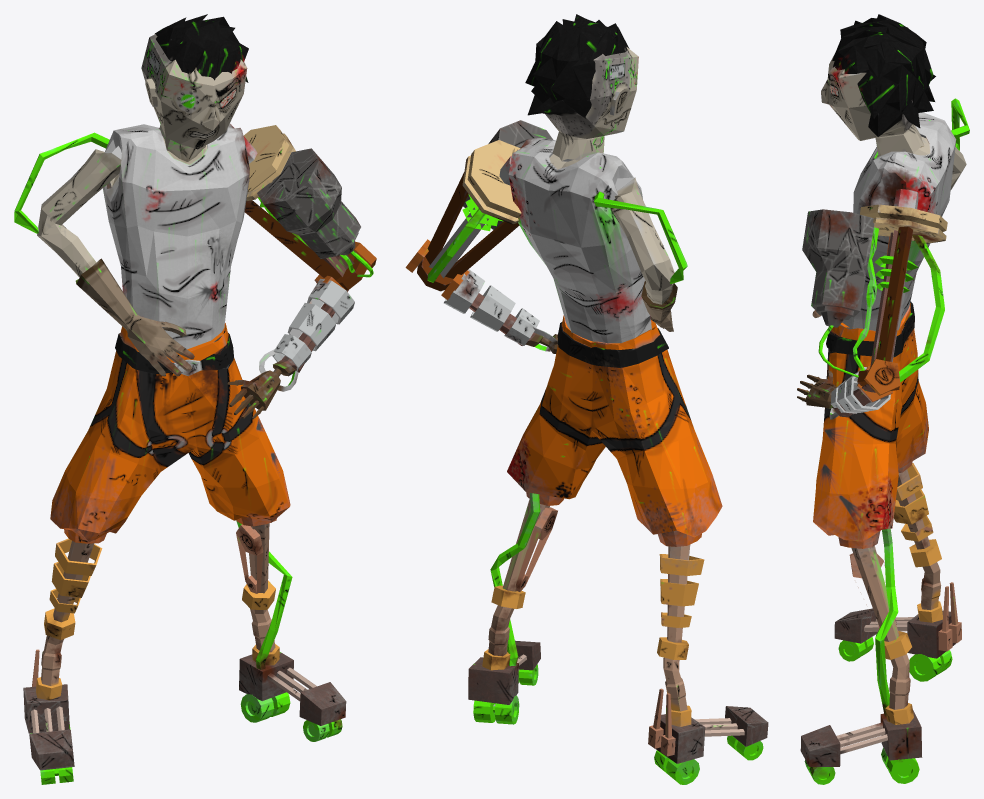
Rendered from CyborgFINALAnimation_000033.obj.
3 renders of one model, left to right at view 1: azimuth 30°, elevation 25°; view 2: azimuth 150°, elevation 25°; view 3: azimuth 270°, elevation 25°, orthographic.
Visible parts, largest first — view 1: CyborgMesh_Cube.002; view 2: CyborgMesh_Cube.002; view 3: CyborgMesh_Cube.002.
Boxes of the visible parts, left/top/right/bottom form: CyborgMesh_Cube.002: left=14, top=14, right=376, bottom=784; CyborgMesh_Cube.002: left=405, top=14, right=768, bottom=784; CyborgMesh_Cube.002: left=797, top=14, right=969, bottom=784.
Bounding box in the file's own units: 4.87 × 9.61 × 2.1.
